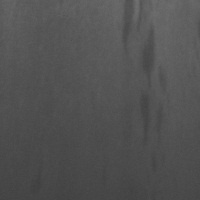inclusion: (121, 1, 170, 177)
